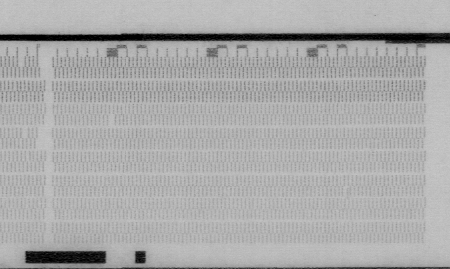Broken hole: (35, 127, 46, 151), (37, 56, 48, 78), (19, 127, 32, 141), (106, 115, 118, 128), (15, 55, 26, 68)
Oblique printing: (341, 185, 353, 200)
